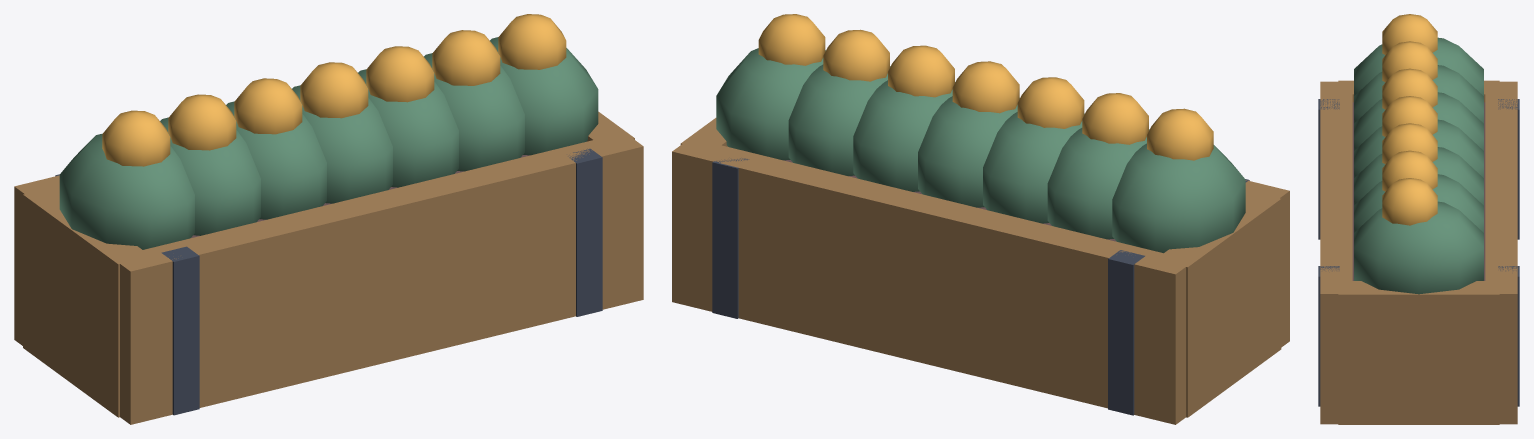
File: flower_box.glb
The picture shows the model from 3 angles, left to right: view 1: azimuth 30°, elevation 25°; view 2: azimuth 150°, elevation 25°; view 3: azimuth 270°, elevation 25°; orthographic projection. The views are drawn at different scales.
Parts seen in each view (by area): view 1: Flower_box_long_wall, Flower_box_end, decor_Flower_box_foliage, decor_Flower_box_foliage.006, decor_Flower_box_foliage.004, decor_Flower_box_foliage.005, decor_Flower_box_foliage.002, decor_Flower_box_foliage.001, decor_Flower_box_foliage.003, Flower_box_iron_band, Flower_box_iron_band.002, decor_Flower_box_marigold.006 (+8 smaller); view 2: Flower_box_long_wall.001, Flower_box_end, decor_Flower_box_foliage, decor_Flower_box_foliage.006, decor_Flower_box_foliage.001, decor_Flower_box_foliage.005, decor_Flower_box_foliage.002, decor_Flower_box_foliage.003, decor_Flower_box_foliage.004, Flower_box_iron_band.001, Flower_box_iron_band.003, decor_Flower_box_marigold.003 (+8 smaller); view 3: Flower_box_end.001, Flower_box_long_wall, Flower_box_long_wall.001, decor_Flower_box_foliage.006, decor_Flower_box_marigold.006, decor_Flower_box_foliage, decor_Flower_box_foliage.001, decor_Flower_box_foliage.002, decor_Flower_box_foliage.003, decor_Flower_box_foliage.004, decor_Flower_box_foliage.005, decor_Flower_box_marigold.001 (+11 smaller).
Part boxes in pixels (bbox=[...]): Flower_box_long_wall: bbox=[120, 132, 643, 424]; Flower_box_end: bbox=[23, 192, 150, 417]; decor_Flower_box_foliage: bbox=[59, 133, 194, 249]; decor_Flower_box_foliage.006: bbox=[490, 37, 598, 155]; decor_Flower_box_foliage.004: bbox=[358, 69, 458, 187]; decor_Flower_box_foliage.005: bbox=[424, 53, 524, 171]; decor_Flower_box_foliage.002: bbox=[226, 101, 326, 219]; decor_Flower_box_foliage.001: bbox=[160, 117, 260, 235]; decor_Flower_box_foliage.003: bbox=[292, 85, 392, 203]; Flower_box_iron_band: bbox=[161, 246, 199, 415]; Flower_box_iron_band.002: bbox=[568, 148, 602, 316]; decor_Flower_box_marigold.006: bbox=[498, 14, 566, 69]; Flower_box_long_wall.001: bbox=[672, 144, 1185, 424]; Flower_box_end: bbox=[1156, 196, 1281, 417]; decor_Flower_box_foliage: bbox=[1112, 143, 1245, 253]; decor_Flower_box_foliage.006: bbox=[716, 48, 825, 160]; decor_Flower_box_foliage.001: bbox=[1047, 128, 1149, 239]; decor_Flower_box_foliage.005: bbox=[788, 64, 890, 176]; decor_Flower_box_foliage.002: bbox=[983, 112, 1084, 223]; decor_Flower_box_foliage.003: bbox=[918, 96, 1019, 207]; decor_Flower_box_foliage.004: bbox=[853, 80, 955, 191]; Flower_box_iron_band.001: bbox=[1108, 250, 1144, 415]; Flower_box_iron_band.003: bbox=[712, 158, 749, 318]; decor_Flower_box_marigold.003: bbox=[952, 61, 1019, 113]; Flower_box_end.001: bbox=[1338, 281, 1499, 424]; Flower_box_long_wall: bbox=[1320, 81, 1352, 424]; Flower_box_long_wall.001: bbox=[1485, 81, 1517, 424]; decor_Flower_box_foliage.006: bbox=[1354, 201, 1483, 294]; decor_Flower_box_marigold.006: bbox=[1382, 178, 1437, 225]; decor_Flower_box_foliage: bbox=[1354, 37, 1483, 95]; decor_Flower_box_foliage.001: bbox=[1354, 65, 1483, 123]; decor_Flower_box_foliage.002: bbox=[1354, 92, 1483, 150]; decor_Flower_box_foliage.003: bbox=[1354, 119, 1483, 177]; decor_Flower_box_foliage.004: bbox=[1354, 147, 1483, 205]; decor_Flower_box_foliage.005: bbox=[1354, 174, 1483, 232]; decor_Flower_box_marigold.001: bbox=[1382, 41, 1437, 82].
Bounding box in the file's own units: 1.41 × 0.675 × 0.56.
